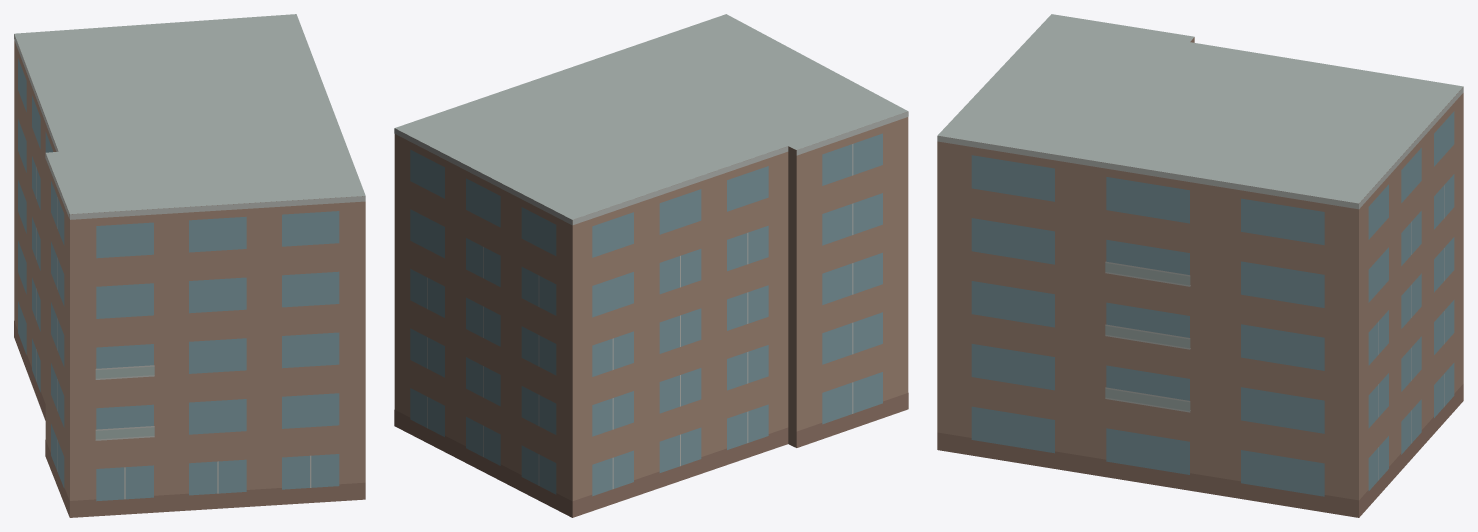
File: survey-upis-32872269.glb
3 views of the same model, side by side, from view 1: azimuth 30°, elevation 25°; view 2: azimuth 150°, elevation 25°; view 3: azimuth 270°, elevation 25° (orthographic). The views are drawn at different scales.
Visible parts, largest first — view 1: survey-upis-32872269.tmp; view 2: survey-upis-32872269.tmp; view 3: survey-upis-32872269.tmp.
Part boxes in pixels (box(x1,y1,x2,y2)): survey-upis-32872269.tmp: box(14, 14, 365, 517); survey-upis-32872269.tmp: box(394, 14, 908, 517); survey-upis-32872269.tmp: box(937, 14, 1463, 517).
Bounding box in the file's own units: 17.08 × 13.2 × 20.04.
